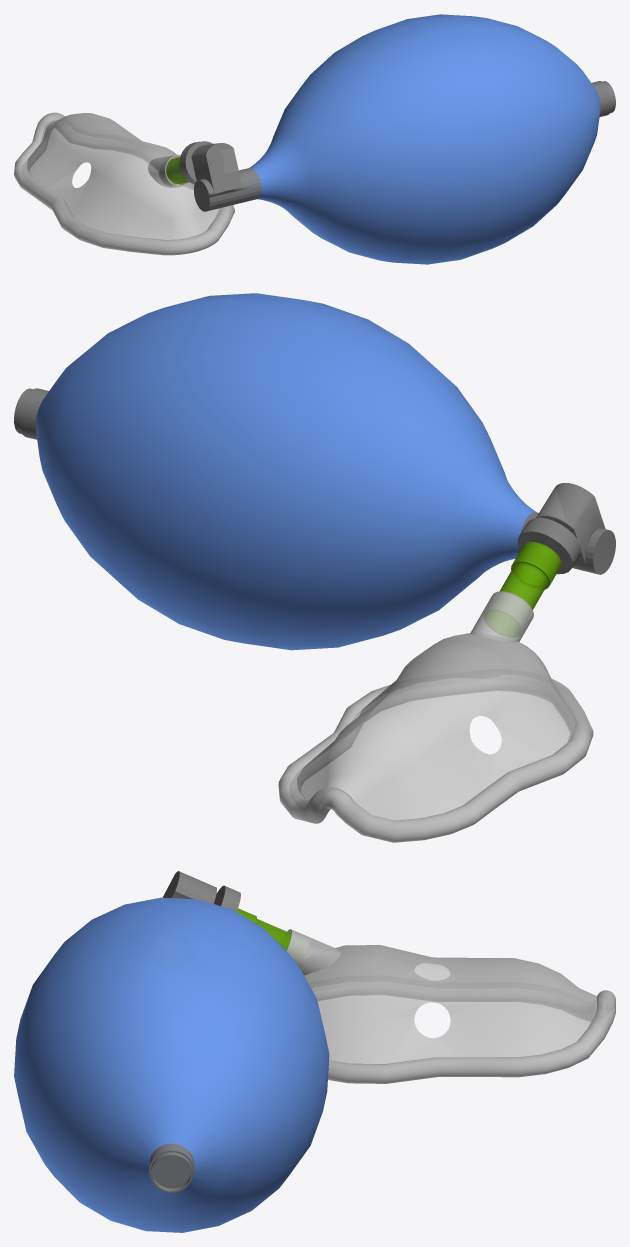
Rendered from baforador.fbx.
The picture shows the model from 3 angles, top to bottom: view 1: azimuth 30°, elevation 25°; view 2: azimuth 150°, elevation 25°; view 3: azimuth 270°, elevation 25°; orthographic projection. The views are drawn at different scales.
Visible parts, largest first — view 1: Group2, Group3; view 2: Group2, Group3; view 3: Group2, Group3.
Part boxes in pixels (x1,y1,x2,y2): Group2: [179, 14, 615, 264]; Group3: [14, 112, 234, 255]; Group2: [14, 293, 615, 650]; Group3: [278, 542, 593, 842]; Group2: [14, 871, 329, 1232]; Group3: [237, 908, 615, 1083].
Size of the model in its own units: 8.99 by 4.14 by 7.89.
